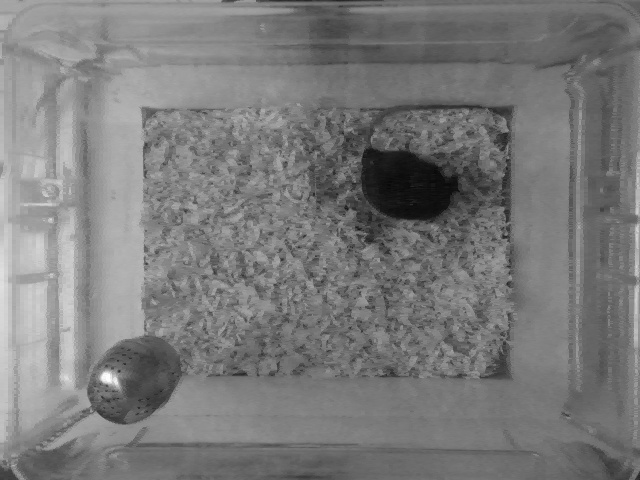mice: (359, 99, 514, 214)
